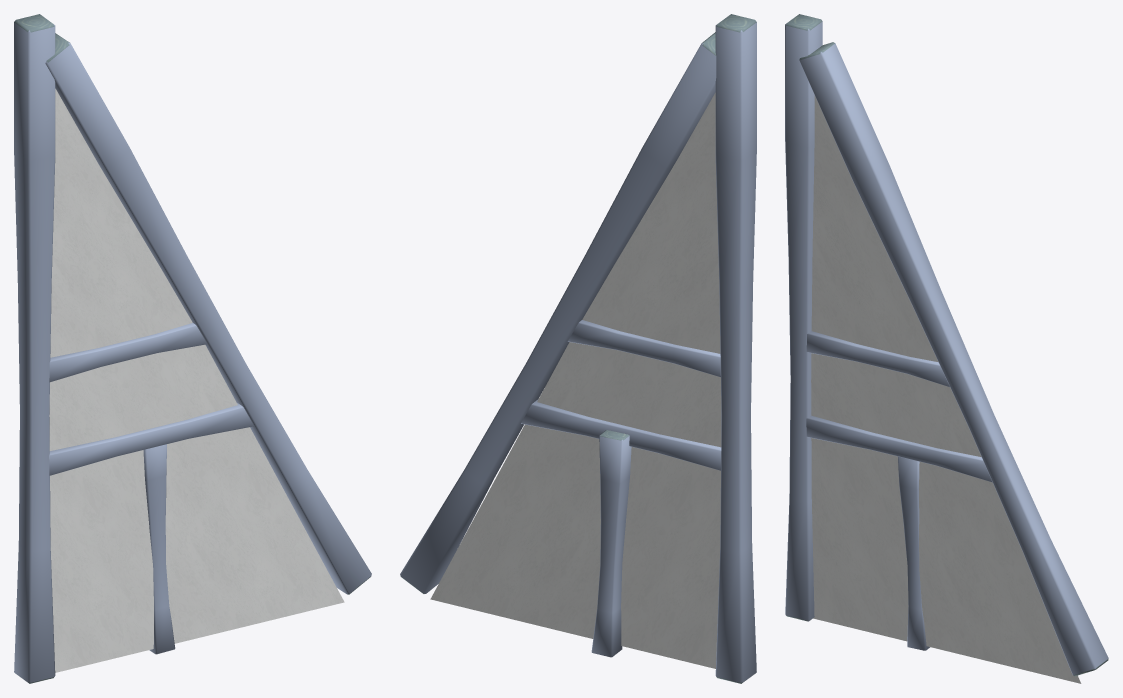
File: PlasterWall_Corner_R.fbx
3 renders of one model, left to right at view 1: azimuth 30°, elevation 25°; view 2: azimuth 150°, elevation 25°; view 3: azimuth 330°, elevation 25°, orthographic. The views are drawn at different scales.
Visible parts, largest first — view 1: PlasterWall_Corner_R; view 2: PlasterWall_Corner_R; view 3: PlasterWall_Corner_R.
Boxes of the visible parts, x1=… form: PlasterWall_Corner_R: x1=14, y1=14, x2=371, y2=683; PlasterWall_Corner_R: x1=400, y1=14, x2=756, y2=683; PlasterWall_Corner_R: x1=785, y1=14, x2=1108, y2=683.
Bounding box in the file's own units: 2.23 × 4.09 × 0.1948.
